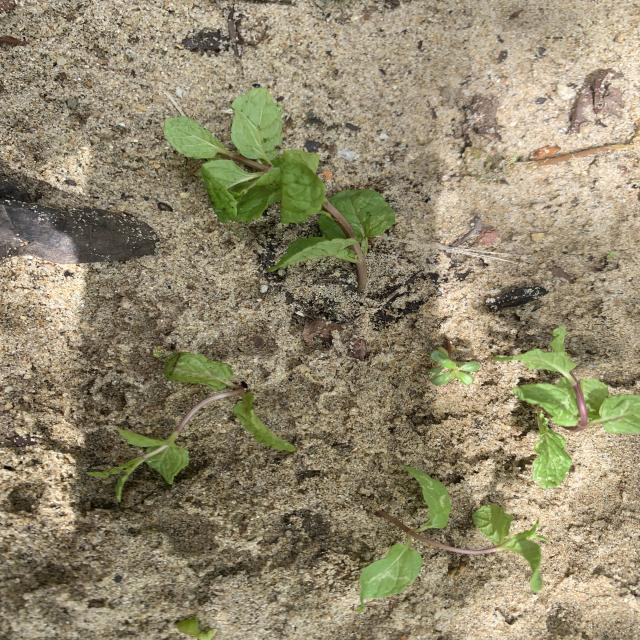crop: (164, 88, 395, 292), (88, 352, 295, 503), (359, 466, 544, 604), (494, 326, 640, 433), (533, 411, 571, 488)
weed: (428, 347, 480, 386)
